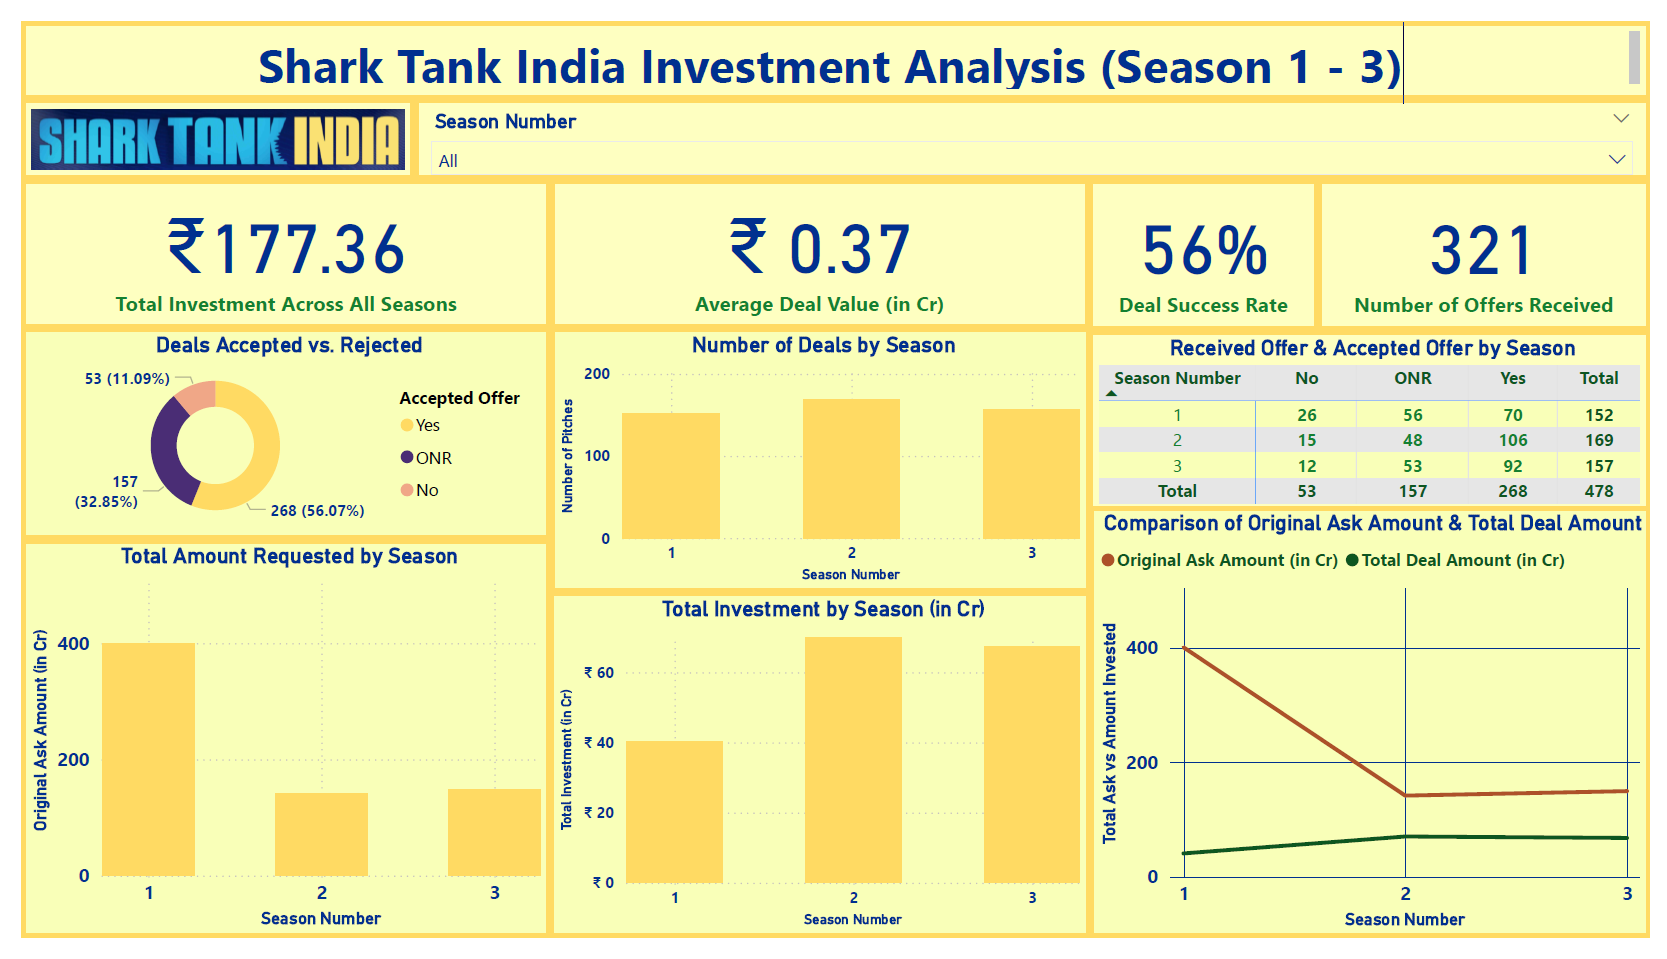

The page's visual inventory and layout, read from the dashboard file:
{"tool":"powerbi","page":{"name":"Overall Investment Trends","canvas":[1280,720],"ordinal":0},"visuals":[{"type":"clusteredColumnChart","title":"Total Investment by Season (in Cr)","fields":{"Category":["Shark Tank India.Season Number"],"Y":["Sum(Shark Tank India.Total Deal Amount (Cr))"]},"box":[415.4,448.5,424.6,271.5],"z":0},{"type":"card","fields":{"Values":["Avg(Shark Tank India.Total Deal Amount (Cr))"]},"box":[416.2,123.8,422.5,117.5],"z":1000},{"type":"card","fields":{"Values":["CountNonNull(Shark Tank India.Received Offer)"]},"box":[1018.6,124.3,261.4,118.6],"z":2000},{"type":"card","fields":{"Values":["Shark Tank India.Deal Success Rate"]},"box":[838.8,123.8,180,118.8],"z":3000},{"type":"card","fields":{"Values":["Shark Tank India.Formatted Value"]},"box":[0,124.3,415.7,117.1],"z":4000},{"type":"clusteredColumnChart","title":"Number of Deals by Season","fields":{"Category":["Shark Tank India.Season Number"],"Y":["Count(Shark Tank India.Pitch Number)"]},"box":[415.6,241.1,424.4,207.8],"z":5000},{"type":"clusteredColumnChart","title":"Total Amount Requested by Season","fields":{"Category":["Shark Tank India.Season Number"],"Y":["Sum(Shark Tank India.Original Ask Amount (in Crores))"]},"box":[0,407.1,415.7,312.9],"z":6000},{"type":"donutChart","title":"Deals Accepted vs. Rejected","fields":{"Category":["Shark Tank India.Accepted Offer"],"Y":["Count(Shark Tank India.Pitch Number)"]},"box":[0,241.4,415.7,165.7],"z":7000},{"type":"pivotTable","title":"Received Offer & Accepted Offer by Season","fields":{"Rows":["Shark Tank India.Season Number"],"Columns":["Shark Tank India.Accepted Offer"],"Values":["Count(Shark Tank India.Pitch Number)"]},"box":[838.6,242.9,441.4,164.3],"z":8000},{"type":"slicer","fields":{"Values":["Shark Tank India.Season Number"]},"box":[308.6,61.4,971.4,62.9],"z":9000},{"type":"textbox","box":[0,0,1280,61.4],"z":10000},{"type":"lineStackedColumnComboChart","title":"Comparison of Original Ask Amount & Total Deal Amount","fields":{"Category":["Shark Tank India.Season Number"],"Y2":["Sum(Shark Tank India.Original Ask Amount (in Crores))","Sum(Shark Tank India.Total Deal Amount (Cr))"]},"box":[840,381.4,440,338.6],"z":11000},{"type":"image","box":[0,61.4,308.6,62.9],"z":11001}]}

Visuals, with their boxes in screenshot pixels (x1, y1, x2, y2), scaled from the page's 1280x720 canvas onto the 1667x959 screenshot:
"Total Investment by Season (in Cr)" clusteredColumnChart: bbox(541, 597, 1094, 958)
card - Avg(Shark Tank India.Total Deal Amount (Cr)): bbox(542, 165, 1092, 321)
card - CountNonNull(Shark Tank India.Received Offer): bbox(1327, 166, 1666, 324)
card - Shark Tank India.Deal Success Rate: bbox(1092, 165, 1327, 323)
card - Shark Tank India.Formatted Value: bbox(0, 166, 541, 322)
"Number of Deals by Season" clusteredColumnChart: bbox(541, 321, 1094, 598)
"Total Amount Requested by Season" clusteredColumnChart: bbox(0, 542, 541, 958)
"Deals Accepted vs. Rejected" donutChart: bbox(0, 322, 541, 542)
"Received Offer & Accepted Offer by Season" pivotTable: bbox(1092, 324, 1666, 542)
slicer - Shark Tank India.Season Number: bbox(402, 82, 1666, 166)
textbox: bbox(0, 0, 1666, 82)
"Comparison of Original Ask Amount & Total Deal Amount" lineStackedColumnComboChart: bbox(1094, 508, 1666, 958)
image: bbox(0, 82, 402, 166)
